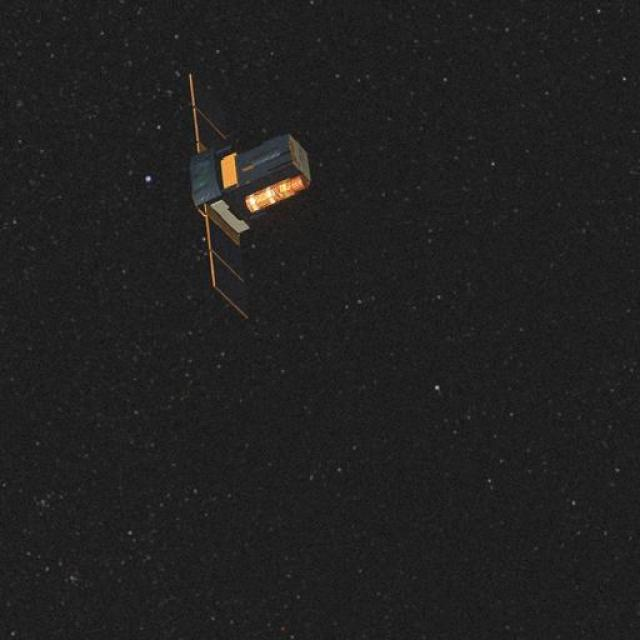soho: (180, 55, 318, 332)
